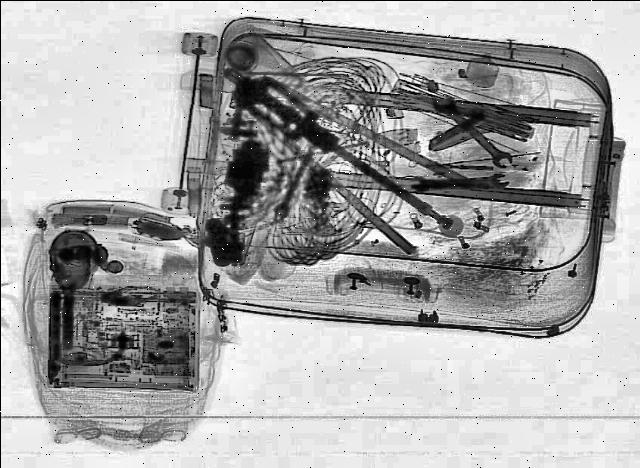Pliers: (194, 50, 504, 256)
Wrench: (428, 91, 520, 171), (411, 172, 512, 192)
